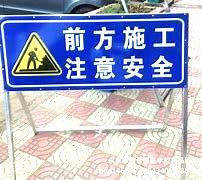sign: (1, 19, 186, 88)
